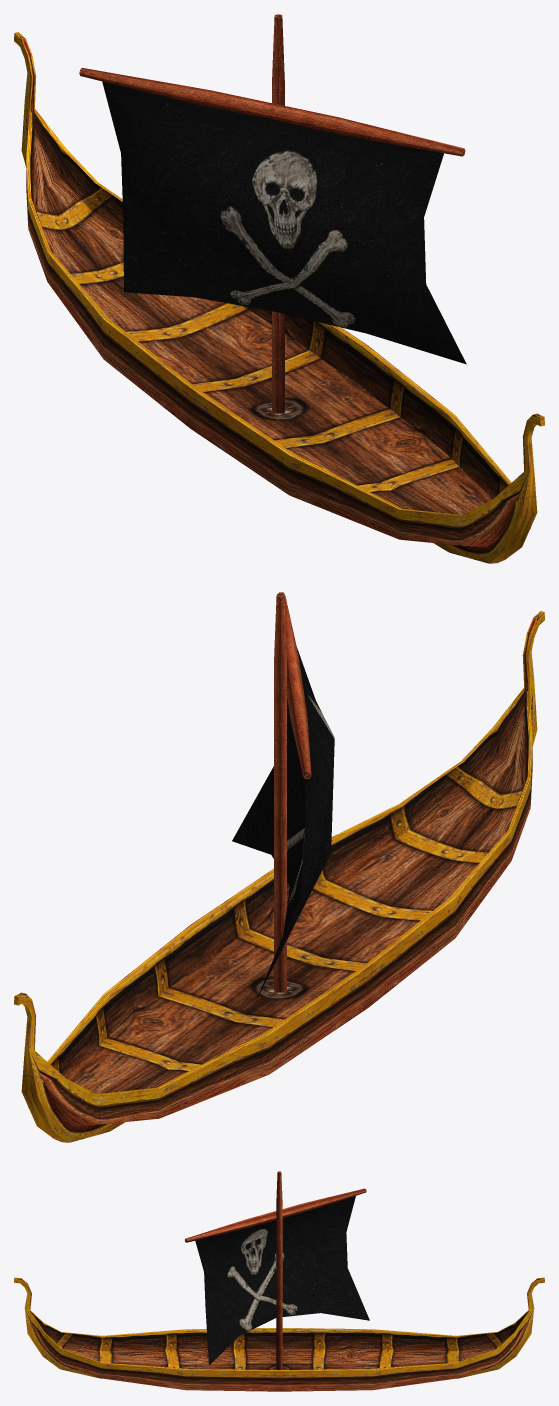
File: mm9_deco_toyboatpirate.glb
The picture shows the model from 3 angles, top to bottom: view 1: azimuth 30°, elevation 25°; view 2: azimuth 150°, elevation 25°; view 3: azimuth 270°, elevation 25°; orthographic projection. The views are drawn at different scales.
Visible parts, largest first — view 1: Toyboatpirate; view 2: Toyboatpirate; view 3: Toyboatpirate.
Part boxes in pixels (x1,y1,x2,y2): Toyboatpirate: (14,14,544,563); Toyboatpirate: (14,592,544,1142); Toyboatpirate: (14,1171,544,1391).
Bounding box in the file's own units: 0.3306 × 0.5633 × 1.29.
Materials: 1 (1 with a texture image).
